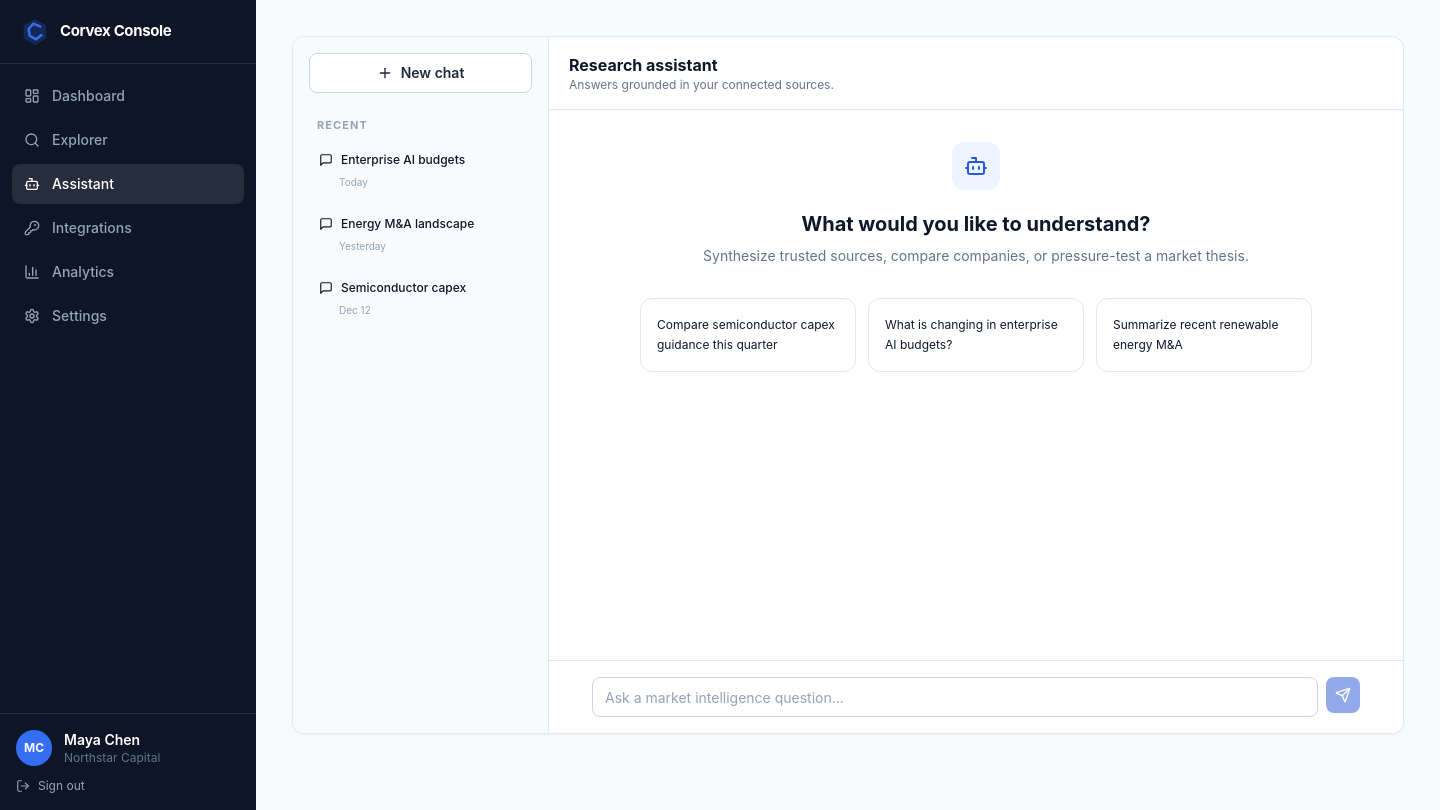
console workflows › sends assistant questions and links citations to explorer documents
Type "What changed in AI spending?" into the field with test id "assistant-input" at (955, 697), box [592,677,1318,717]
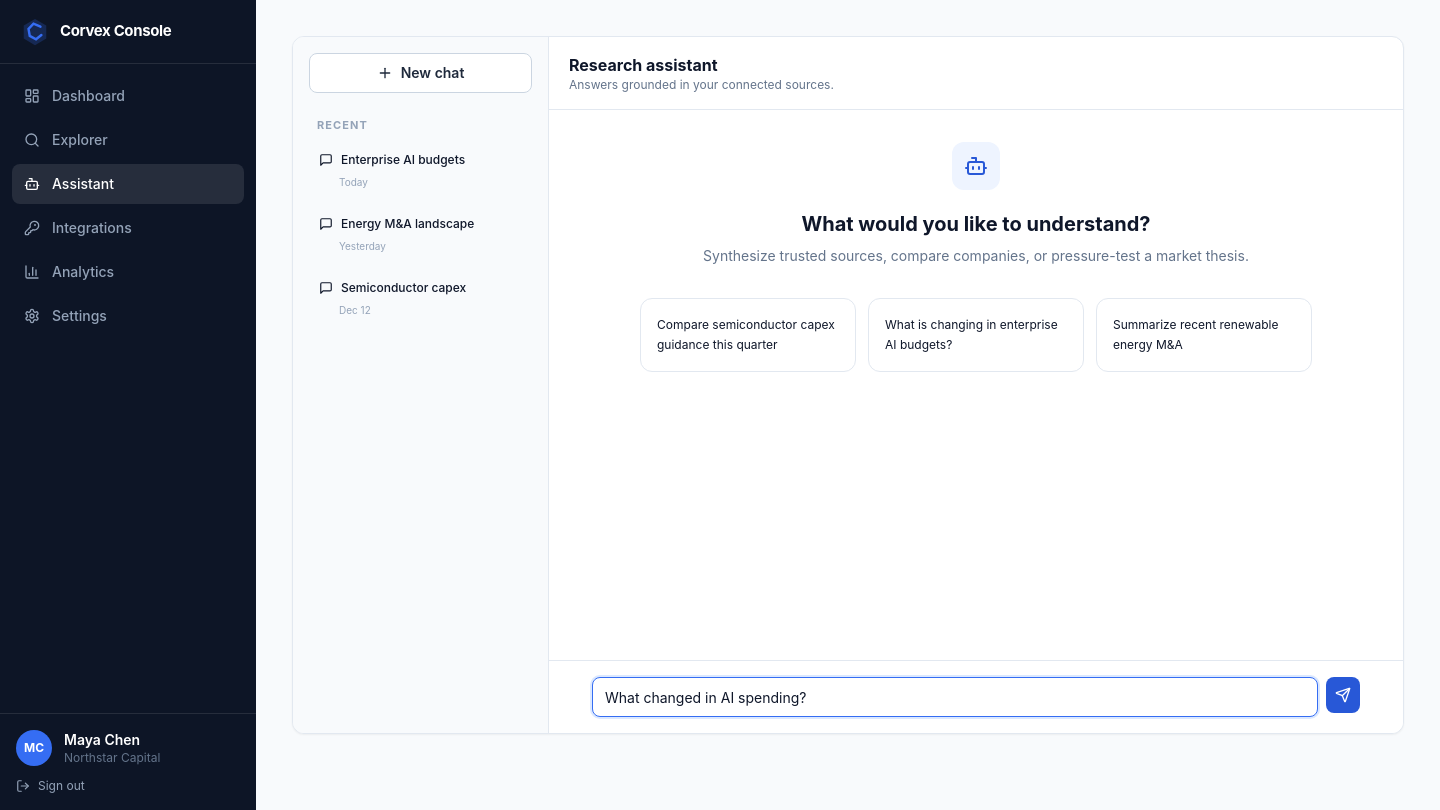
Click the button with test id "assistant-send" at (1343, 695), box [1326,677,1360,713]
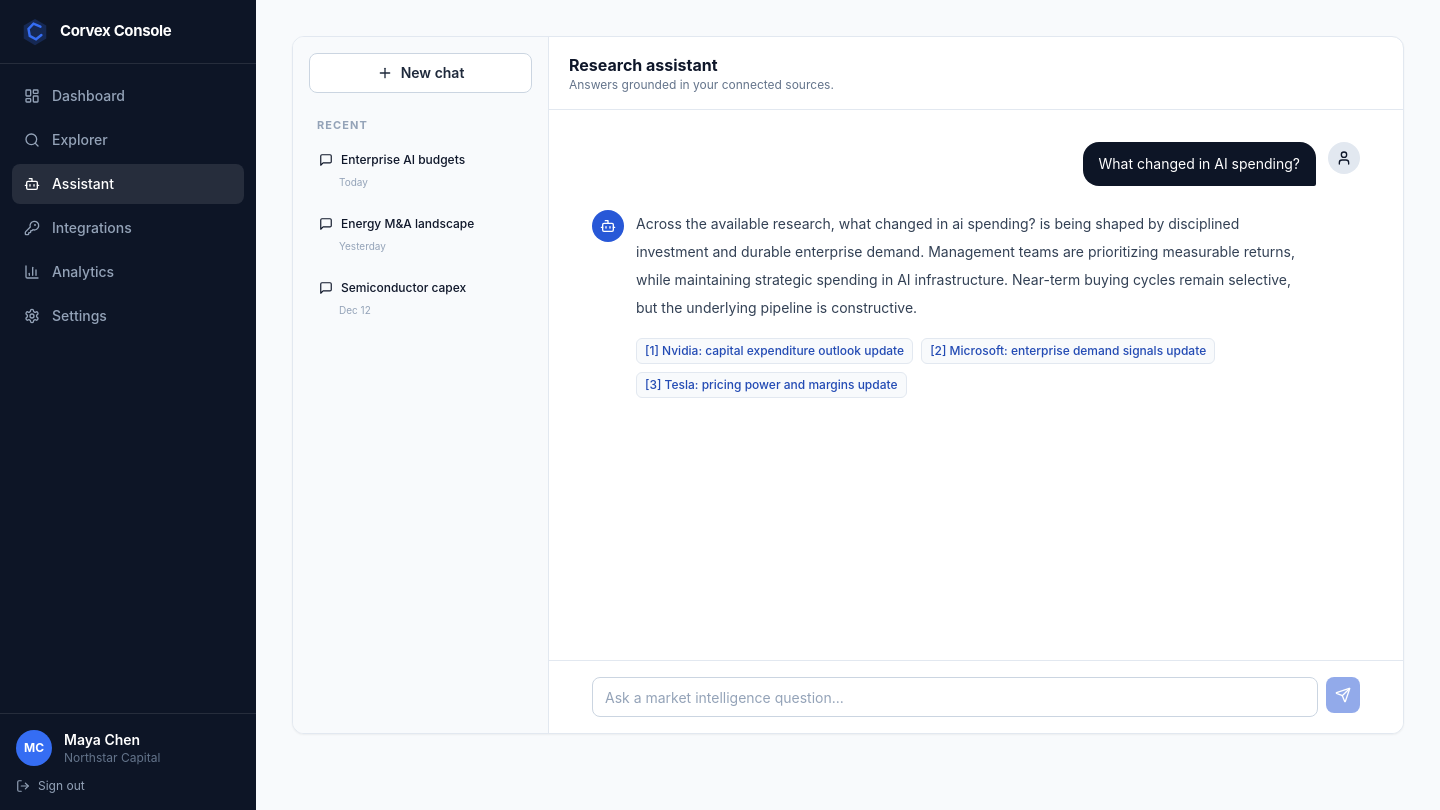
Check: the text "What changed in AI spending?" is shown, box [1098,154,1300,174]
